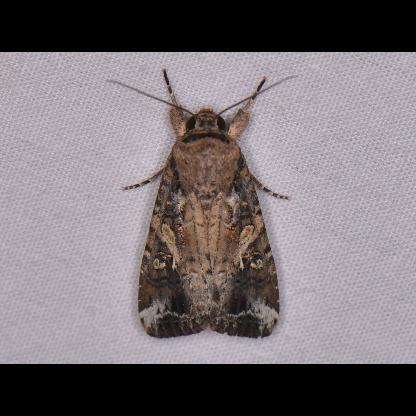Fall Armyworm Moth: (121, 66, 295, 342)
